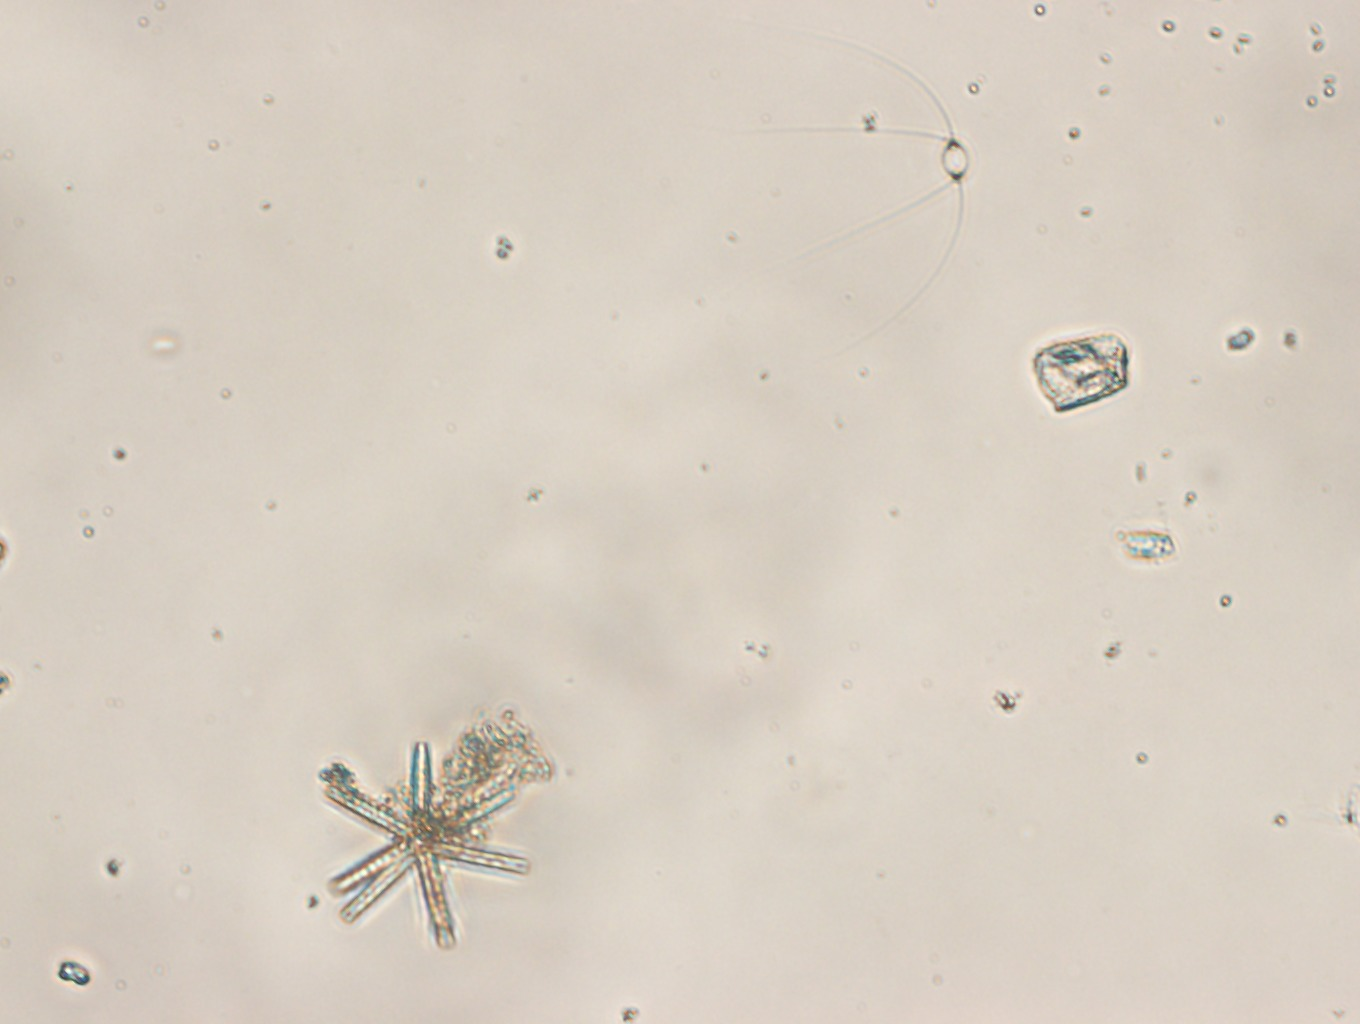chaetoceros: (717, 35, 969, 349)
thalassionema nitzschioides: (323, 737, 531, 951)
